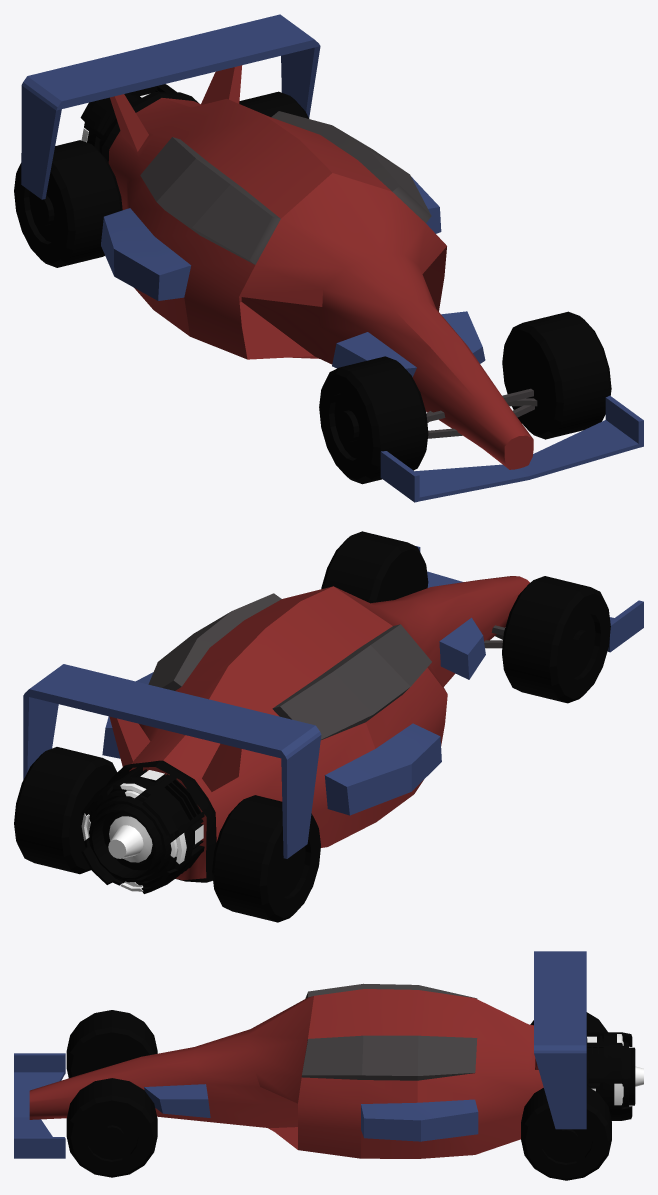
3 views of the same model, one above another, from view 1: azimuth 30°, elevation 25°; view 2: azimuth 150°, elevation 25°; view 3: azimuth 270°, elevation 25° (orthographic). The views are drawn at different scales.
Parts seen in each view (by area): view 1: polySurface27, polySurface21, front right tyre.001, front left tyre.002, back right tyre.001, polySurface23, polySurface26, thruster2, back left tyre.001; view 2: polySurface27, polySurface21, thruster2, front right tyre.001, back right tyre.001, back left tyre.001, polySurface26, front left tyre.002, polySurface23; view 3: polySurface27, polySurface21, front left tyre.002, back left tyre.001, polySurface25, front right tyre.001, polySurface23, thruster2.
Part boxes in pixels (x1,y1,x2,y2): polySurface27: [99, 65, 537, 469]; polySurface21: [21, 14, 320, 199]; front right tyre.001: [319, 356, 428, 484]; front left tyre.002: [502, 311, 611, 439]; back right tyre.001: [14, 140, 122, 267]; polySurface23: [380, 395, 643, 502]; polySurface26: [101, 208, 191, 300]; thruster2: [80, 84, 176, 151]; back left tyre.001: [239, 91, 308, 118]; polySurface27: [106, 576, 529, 882]; polySurface21: [23, 664, 321, 858]; thruster2: [81, 767, 204, 893]; front right tyre.001: [502, 576, 610, 703]; back right tyre.001: [212, 795, 320, 922]; back left tyre.001: [14, 747, 117, 874]; polySurface26: [324, 723, 441, 815]; front left tyre.002: [321, 531, 428, 603]; polySurface23: [416, 546, 643, 652]; polySurface27: [29, 983, 588, 1158]; polySurface21: [534, 951, 586, 1129]; front left tyre.002: [66, 1078, 157, 1177]; back left tyre.001: [521, 1086, 611, 1180]; polySurface25: [361, 1099, 478, 1141]; front right tyre.001: [66, 1010, 157, 1078]; polySurface23: [14, 1053, 65, 1158]; thruster2: [587, 1032, 643, 1120].
Size of the model in its own units: 3.69 by 2.28 by 8.9.
